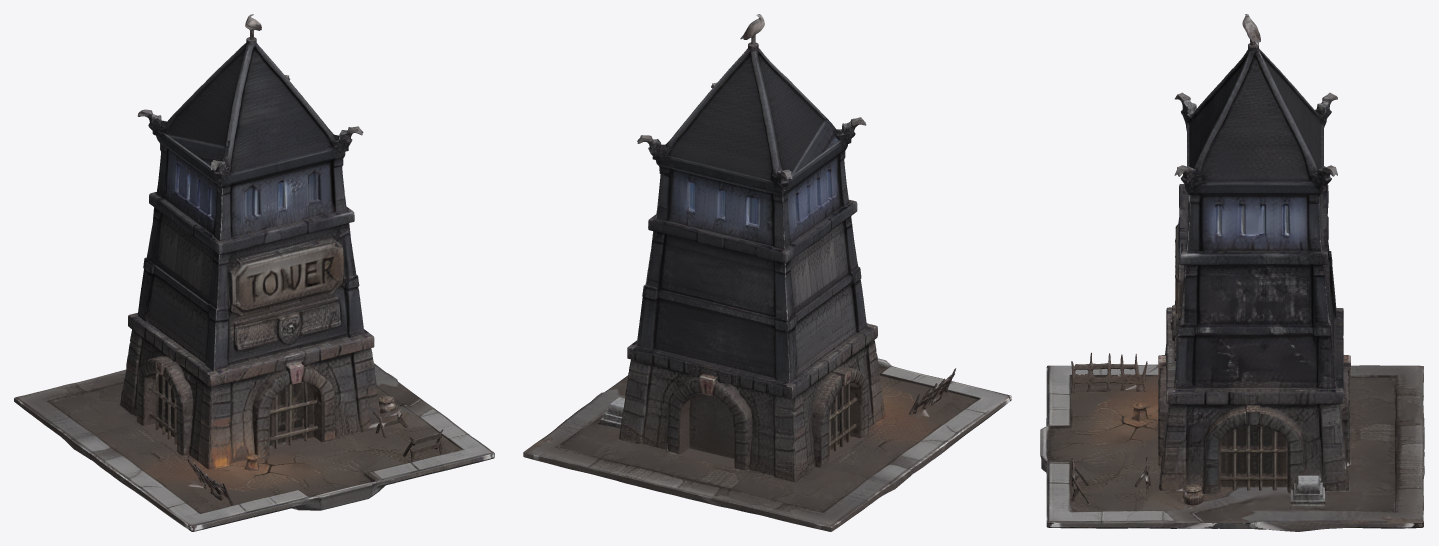
File: tower.glb
3 renders of one model, left to right at view 1: azimuth 30°, elevation 25°; view 2: azimuth 150°, elevation 25°; view 3: azimuth 270°, elevation 25°, orthographic. The views are drawn at different scales.
Parts seen in each view (by area): view 1: model; view 2: model; view 3: model.
Boxes of the visible parts, box(x1,y1,x2,y2) form: model: box(14, 14, 494, 531); model: box(523, 14, 1011, 531); model: box(1040, 14, 1424, 531).
Bounding box in the file's own units: 1.45 × 1.9 × 1.49.
1 material, 1 textured.
